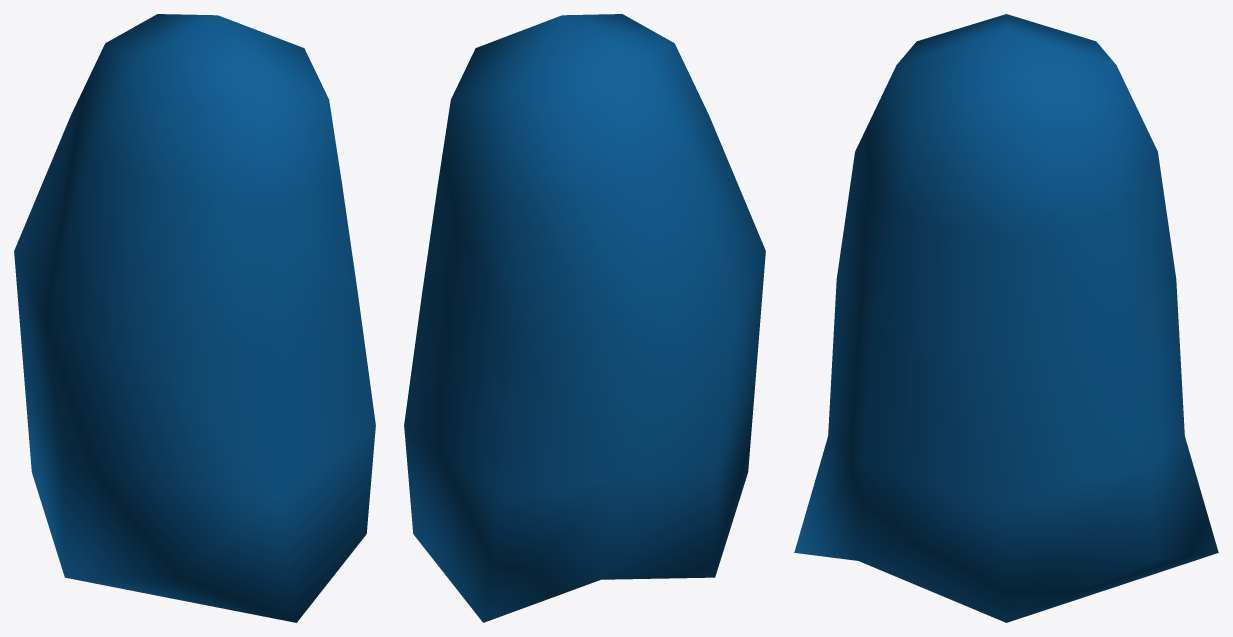
Rendered from soul1.fbx.
3 views of the same model, side by side, from view 1: azimuth 30°, elevation 25°; view 2: azimuth 150°, elevation 25°; view 3: azimuth 270°, elevation 25° (orthographic).
Parts seen in each view (by area): view 1: Cube.001; view 2: Cube.001; view 3: Cube.001.
Boxes of the visible parts, left/top/right/bottom form: Cube.001: left=14, top=14, right=375, bottom=622; Cube.001: left=404, top=14, right=765, bottom=622; Cube.001: left=794, top=14, right=1218, bottom=622.
Size of the model in its own units: 1.15 by 2.07 by 1.41.
